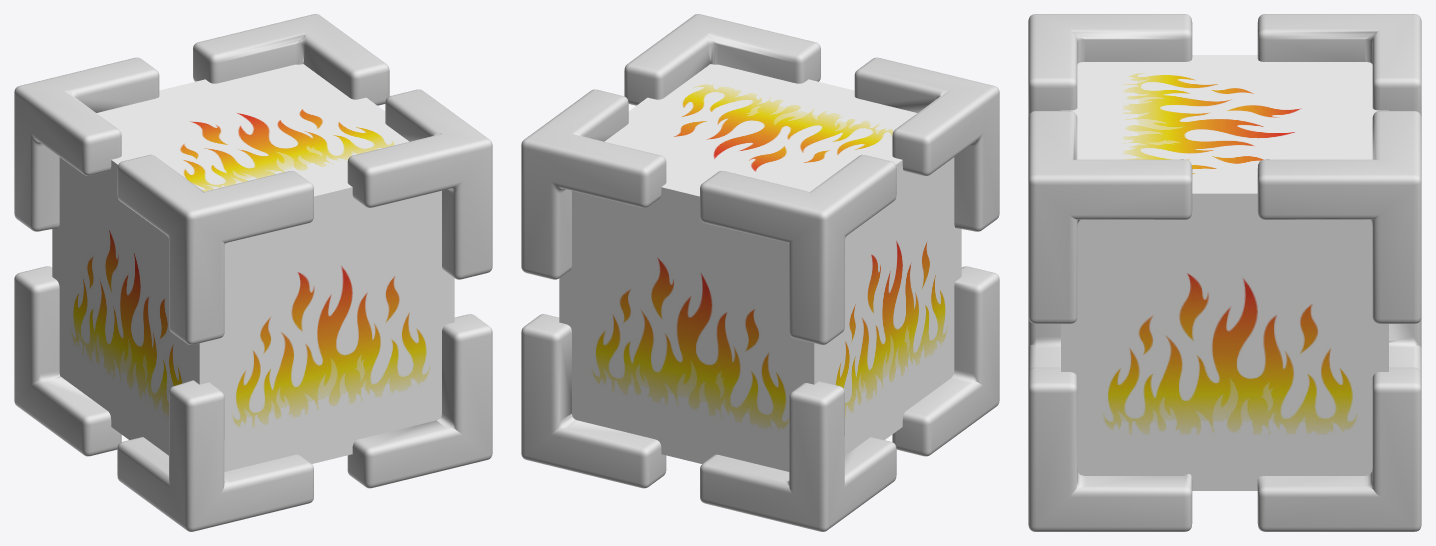
Rendered from FirePath.fbx.
The picture shows the model from 3 angles, left to right: view 1: azimuth 30°, elevation 25°; view 2: azimuth 150°, elevation 25°; view 3: azimuth 270°, elevation 25°; orthographic projection. The views are drawn at different scales.
Parts seen in each view (by area): view 1: MainBox, Corner005, Corner008, Corner001, Corner011, Corner007, Corner006, Corner010; view 2: MainBox, Corner011, Corner006, Corner010, Corner005, Corner002, Corner008, Corner001; view 3: MainBox, Corner010, Corner001, Corner007, Corner002, Corner011, Corner005, Corner006, Corner008.
Part boxes in pixels (box(x1,y1,x2,y2)): MainBox: box(52, 64, 454, 471); Corner005: box(117, 154, 313, 344); Corner008: box(117, 380, 313, 531); Corner001: box(347, 89, 492, 279); Corner011: box(14, 57, 159, 231); Corner007: box(347, 314, 492, 488); Corner006: box(14, 266, 121, 456); Corner010: box(193, 14, 389, 105); MainBox: box(559, 64, 961, 471); Corner011: box(700, 154, 896, 344); Corner006: box(700, 381, 896, 531); Corner010: box(521, 89, 666, 279); Corner005: box(854, 57, 999, 231); Corner002: box(521, 314, 666, 488); Corner008: box(892, 266, 999, 456); Corner001: box(624, 14, 820, 105); MainBox: box(1061, 55, 1388, 490); Corner010: box(1257, 111, 1421, 323); Corner001: box(1028, 111, 1192, 323); Corner007: box(1028, 367, 1192, 531); Corner002: box(1257, 367, 1421, 531); Corner011: box(1257, 14, 1421, 117); Corner005: box(1028, 14, 1192, 117); Corner006: box(1389, 317, 1421, 373); Corner008: box(1028, 317, 1060, 373).
Size of the model in its own units: 120 by 120 by 120.
1 material, 1 textured.
